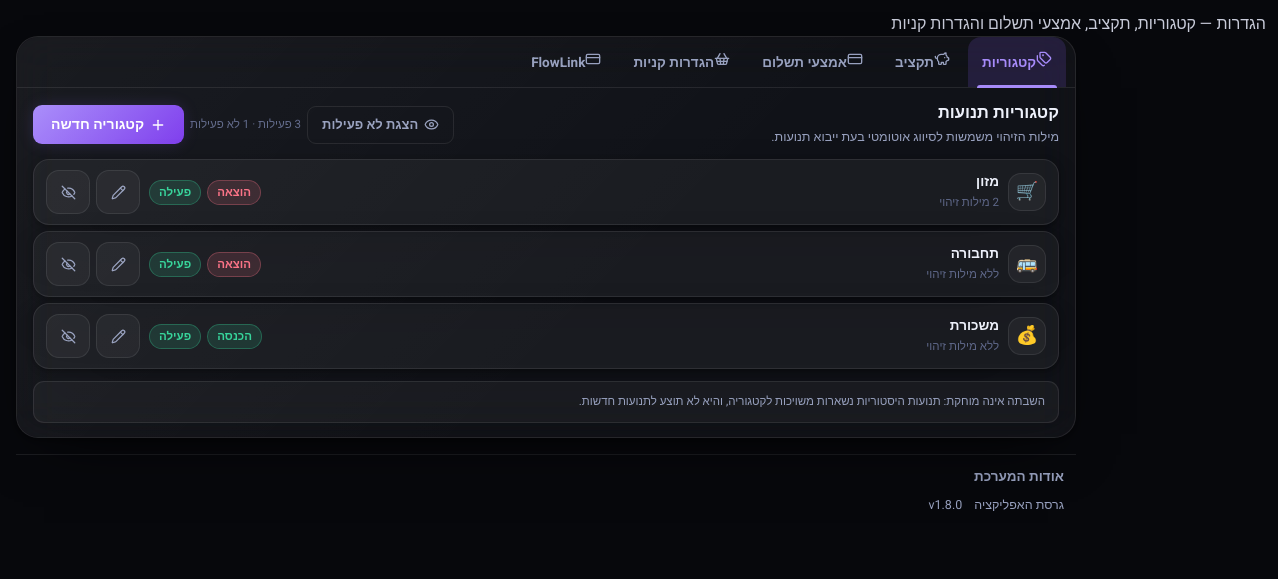
Test case: Budget settings › centralizes expense defaults, excludes income, and distinguishes zero from no default
Expected: the heading "מזון" is shown, [976,172,999,192]
Click the tab "תקציב" at (923, 62), box [881,37,964,87]
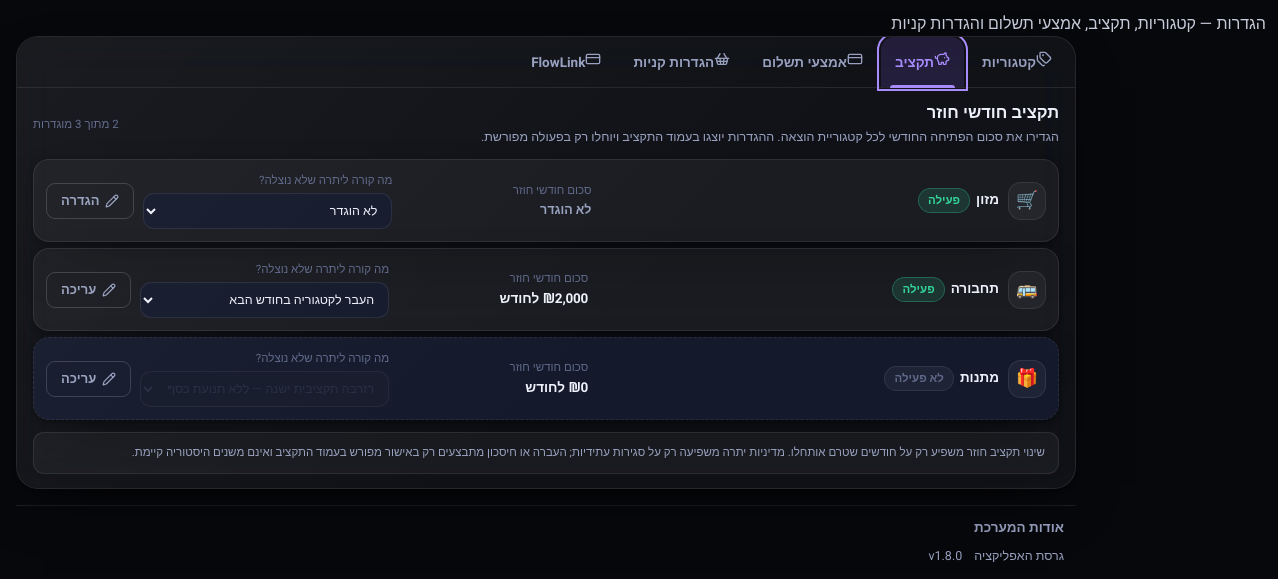
Now the text "לא הוגדר" is shown, box [540,201,592,219]
Now the text "₪2,000" is shown, box [543,289,588,309]
Now the text "לחודש" next to "2,000" is shown, box [500,289,543,309]
